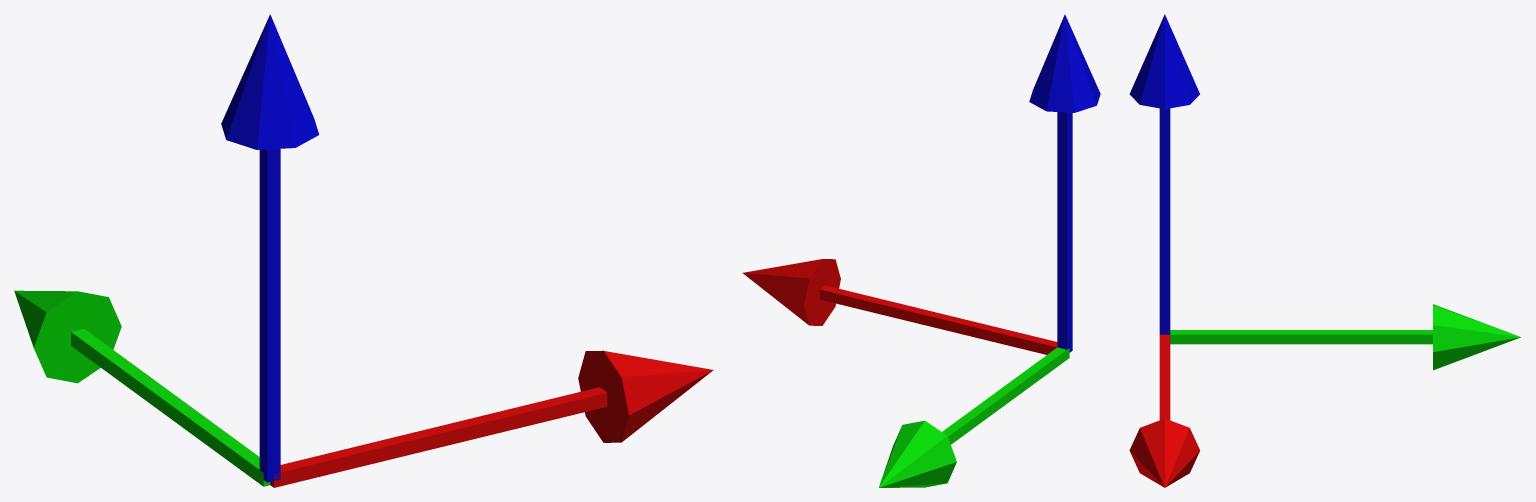
Rendered from axis.dae.
3 renders of one model, left to right at view 1: azimuth 30°, elevation 25°; view 2: azimuth 150°, elevation 25°; view 3: azimuth 270°, elevation 25°, orthographic. The views are drawn at different scales.
Visible parts, largest first — view 1: Cone.002; view 2: Cone.002; view 3: Cone.002.
Part boxes in pixels (<box>): Cone.002: <box>14,14,713,487</box>; Cone.002: <box>743,14,1100,487</box>; Cone.002: <box>1129,14,1520,487</box>.
Bounding box in the file's own units: 0.22 × 0.22 × 0.22.
